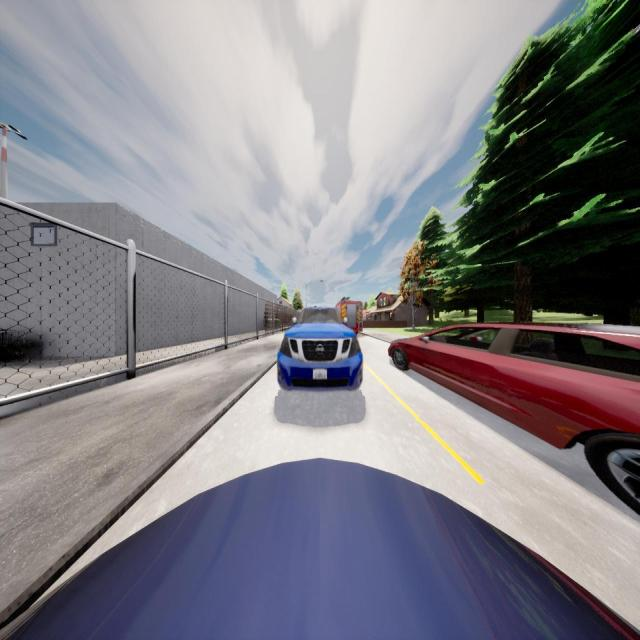Vehicle: (0, 461, 640, 640), (388, 323, 640, 513), (278, 305, 362, 390), (336, 298, 363, 333)
